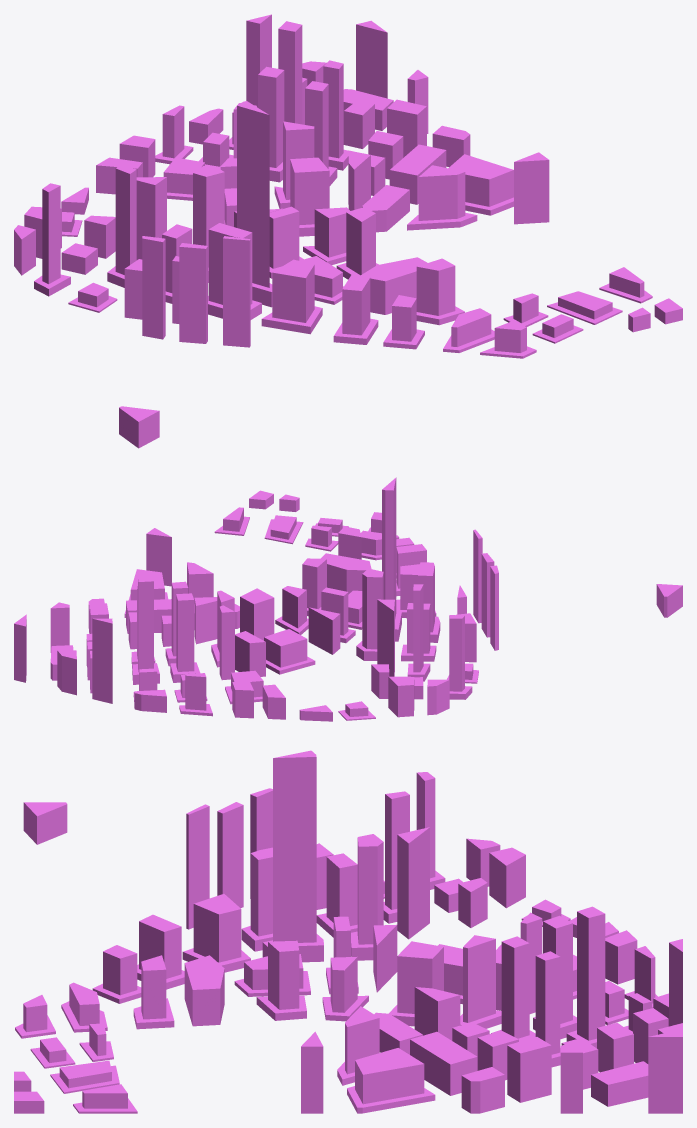
The model's file is buildings_00238.obj.
3 views of the same model, one above another, from view 1: azimuth 30°, elevation 25°; view 2: azimuth 150°, elevation 25°; view 3: azimuth 270°, elevation 25° (orthographic). The views are drawn at different scales.
Size of the model in its own units: 1460 by 486 by 1460.
